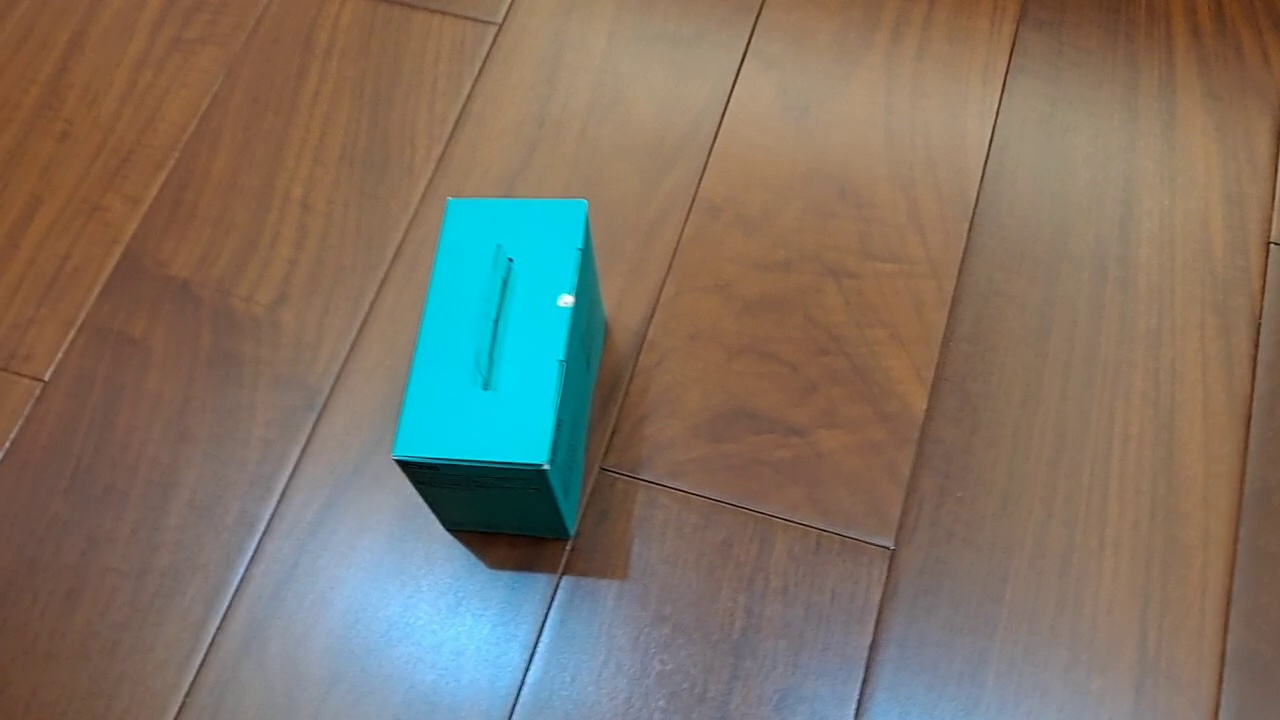webcam: (389, 194, 609, 541)
